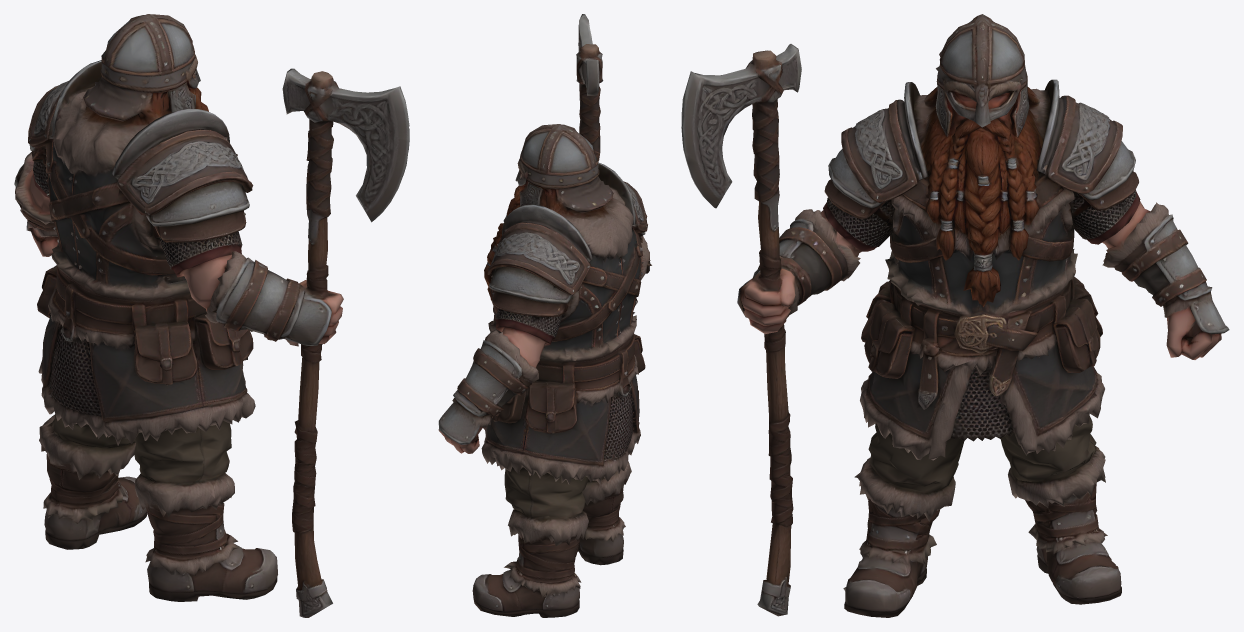
3 renders of one model, left to right at view 1: azimuth 30°, elevation 25°; view 2: azimuth 150°, elevation 25°; view 3: azimuth 270°, elevation 25°, orthographic. The views are drawn at different scales.
Parts seen in each view (by area): view 1: tripo_node_b83ffef2-3891-44ba-a5d3-3e8aa2414f21; view 2: tripo_node_b83ffef2-3891-44ba-a5d3-3e8aa2414f21; view 3: tripo_node_b83ffef2-3891-44ba-a5d3-3e8aa2414f21.
Part boxes in pixels (x1,y1,x2,y2): tripo_node_b83ffef2-3891-44ba-a5d3-3e8aa2414f21: (14,14,409,617); tripo_node_b83ffef2-3891-44ba-a5d3-3e8aa2414f21: (438,14,651,617); tripo_node_b83ffef2-3891-44ba-a5d3-3e8aa2414f21: (681,14,1229,617).
Size of the model in its own units: 0.386 by 1 by 0.871.
Materials: 1 (1 with a texture image).
